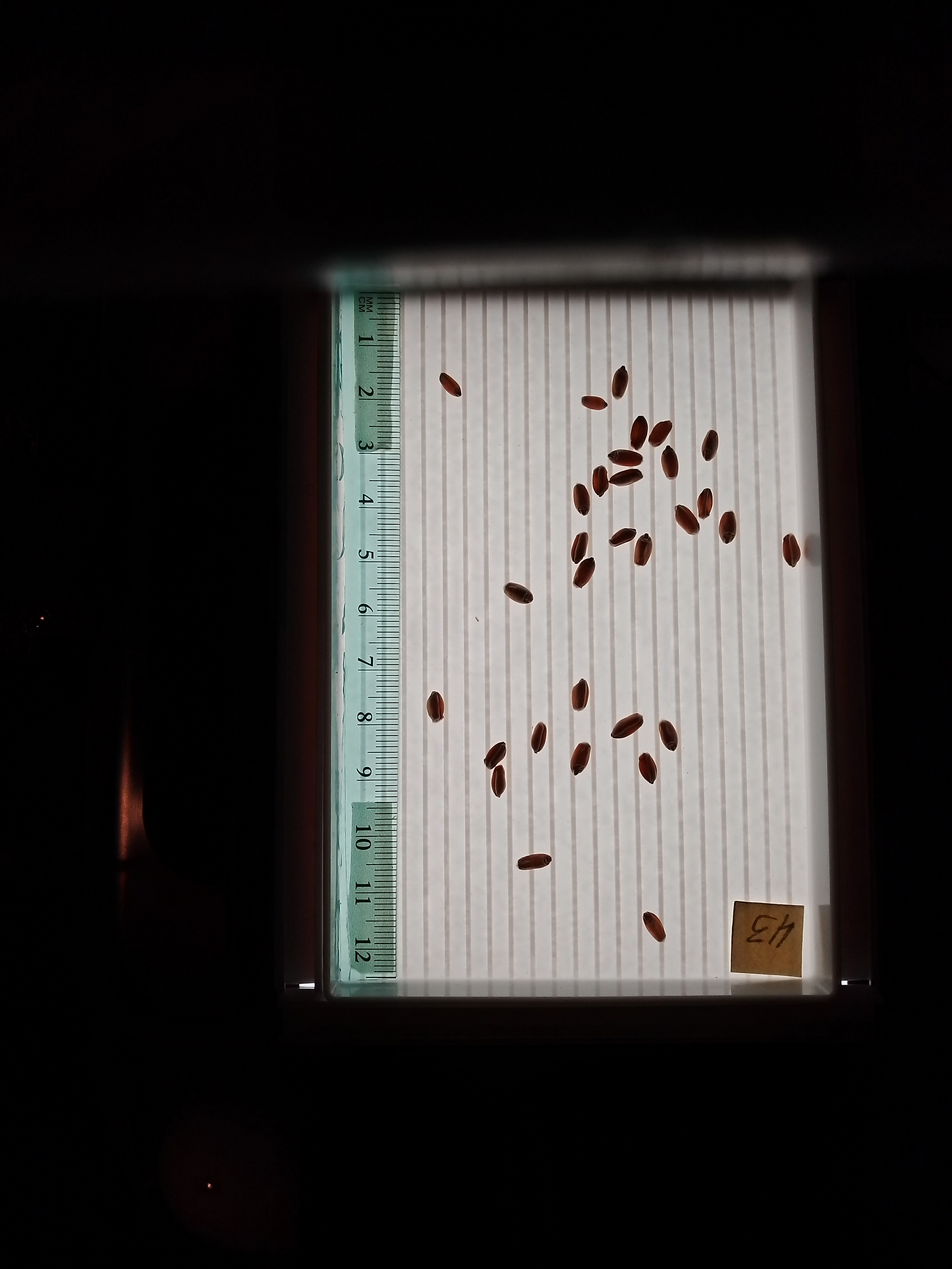seed mask: (612, 714, 643, 739), (676, 506, 699, 534), (573, 558, 594, 588), (649, 420, 672, 447), (571, 744, 591, 775), (644, 913, 665, 942), (782, 535, 801, 566), (426, 692, 445, 723), (659, 720, 678, 751), (505, 583, 533, 604), (661, 447, 679, 479), (609, 449, 641, 467), (719, 512, 737, 544), (630, 417, 647, 450), (518, 853, 551, 870), (573, 484, 591, 515), (634, 535, 652, 566), (571, 680, 589, 711), (484, 743, 506, 768), (611, 366, 628, 398), (570, 533, 588, 563), (639, 754, 657, 784), (702, 430, 719, 461), (610, 527, 636, 547), (592, 466, 609, 496), (440, 373, 461, 397), (697, 489, 713, 519), (531, 723, 547, 753), (491, 765, 506, 797), (612, 473, 642, 487), (582, 397, 606, 411)
